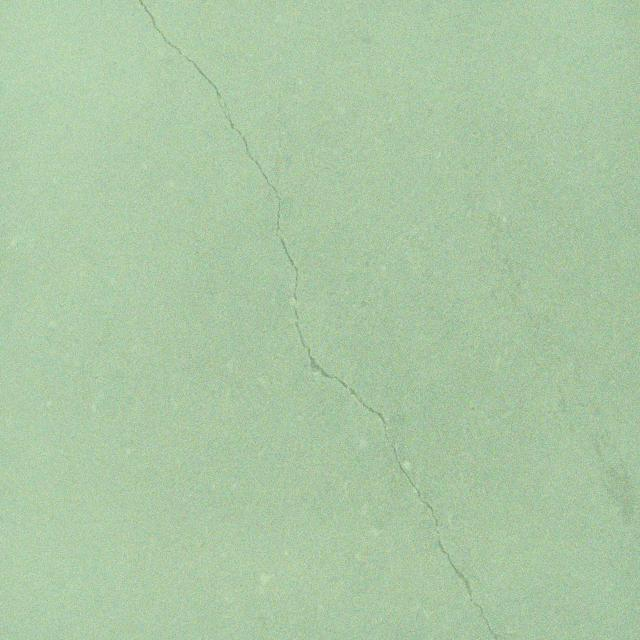crack: (138, 0, 506, 640)
